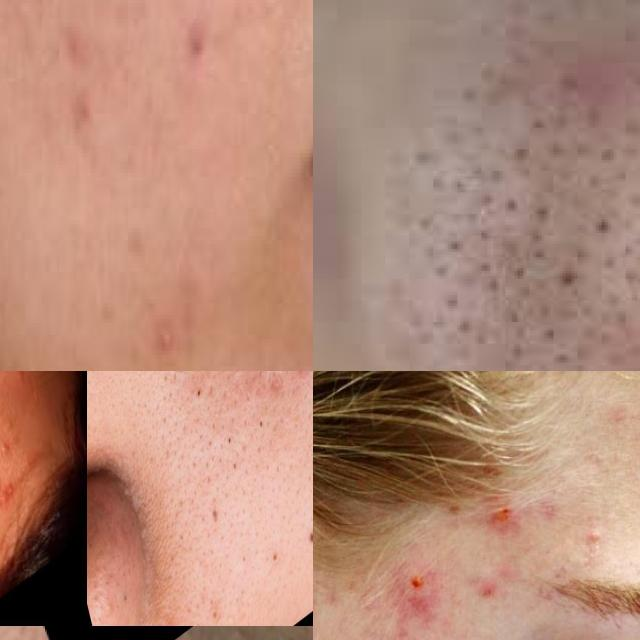acne_scars: (264, 371, 288, 412)
comedone: (388, 0, 640, 371), (198, 582, 227, 626), (248, 402, 274, 443), (185, 378, 208, 415), (162, 371, 191, 390), (104, 613, 138, 626), (224, 371, 246, 391), (294, 371, 313, 392)
papule: (489, 496, 523, 542), (404, 571, 430, 603), (0, 470, 19, 506)
